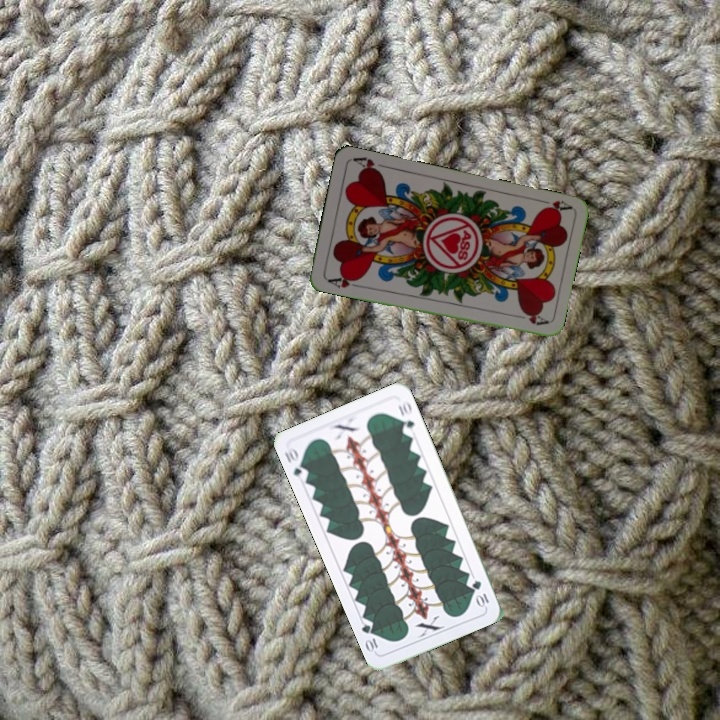G10: (281, 444, 311, 483), (468, 576, 492, 610)
HA: (533, 195, 574, 216), (324, 271, 363, 291)
